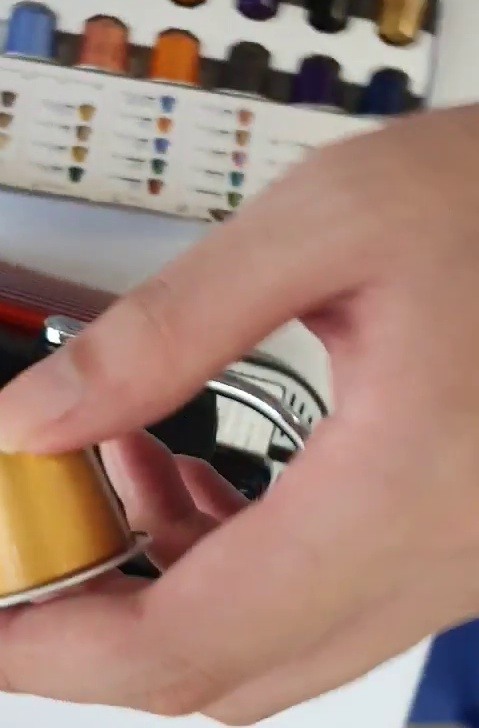capsule_8: (1, 411, 163, 606)
